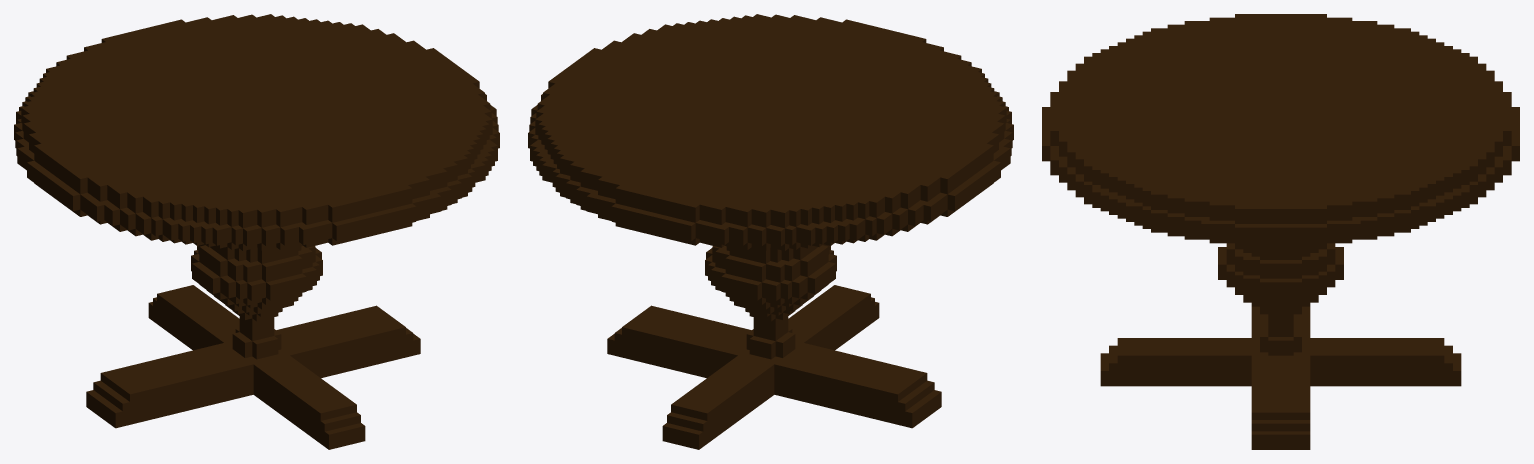
File: Table ronde.obj
The picture shows the model from 3 angles, left to right: view 1: azimuth 30°, elevation 25°; view 2: azimuth 150°, elevation 25°; view 3: azimuth 270°, elevation 25°; orthographic projection.
Visible parts, largest first — view 1: Table ronde; view 2: Table ronde; view 3: Table ronde.
Boxes of the visible parts, box(x1,y1,x2,y2) form: Table ronde: box(14, 14, 499, 449); Table ronde: box(528, 14, 1013, 449); Table ronde: box(1042, 14, 1519, 449).
Size of the model in its own units: 57 by 35 by 57.
1 material, 1 textured.
